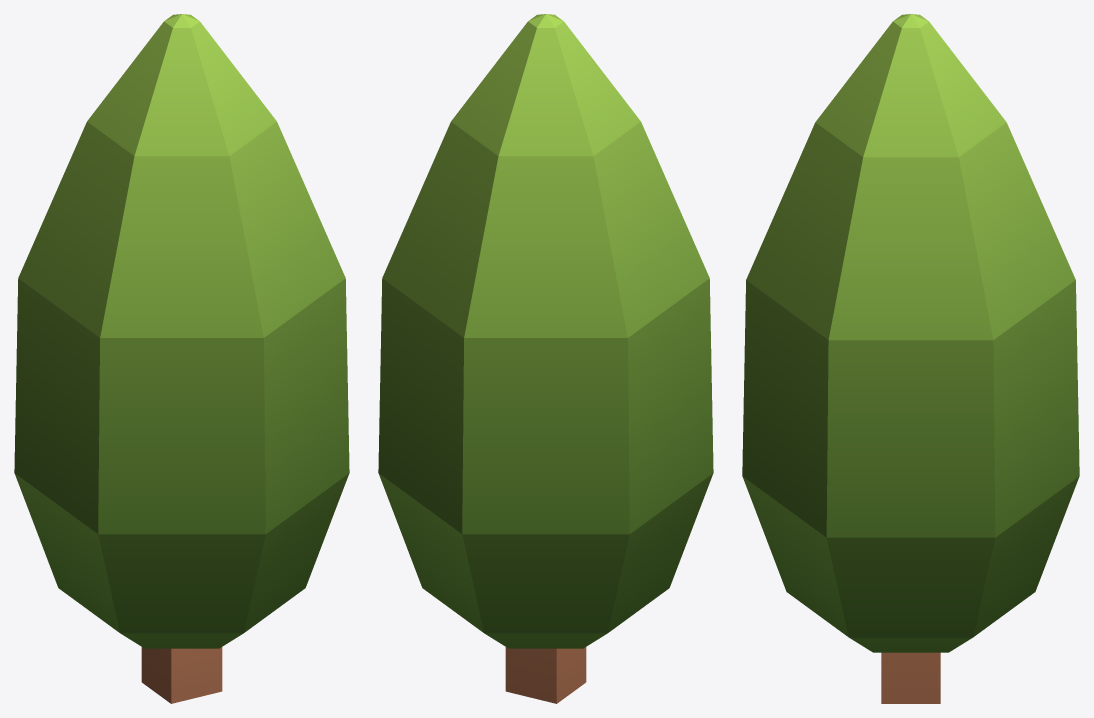
The model's file is tree 8.fbx.
3 views of the same model, side by side, from view 1: azimuth 30°, elevation 25°; view 2: azimuth 150°, elevation 25°; view 3: azimuth 270°, elevation 25° (orthographic).
Visible parts, largest first — view 1: tree_8; view 2: tree_8; view 3: tree_8.
Boxes of the visible parts, box(x1,y1,x2,y2) form: tree_8: box(14, 14, 349, 703); tree_8: box(378, 14, 713, 703); tree_8: box(742, 14, 1079, 703).
Bounding box in the file's own units: 135 × 345 × 156.
1 material, 1 textured.
